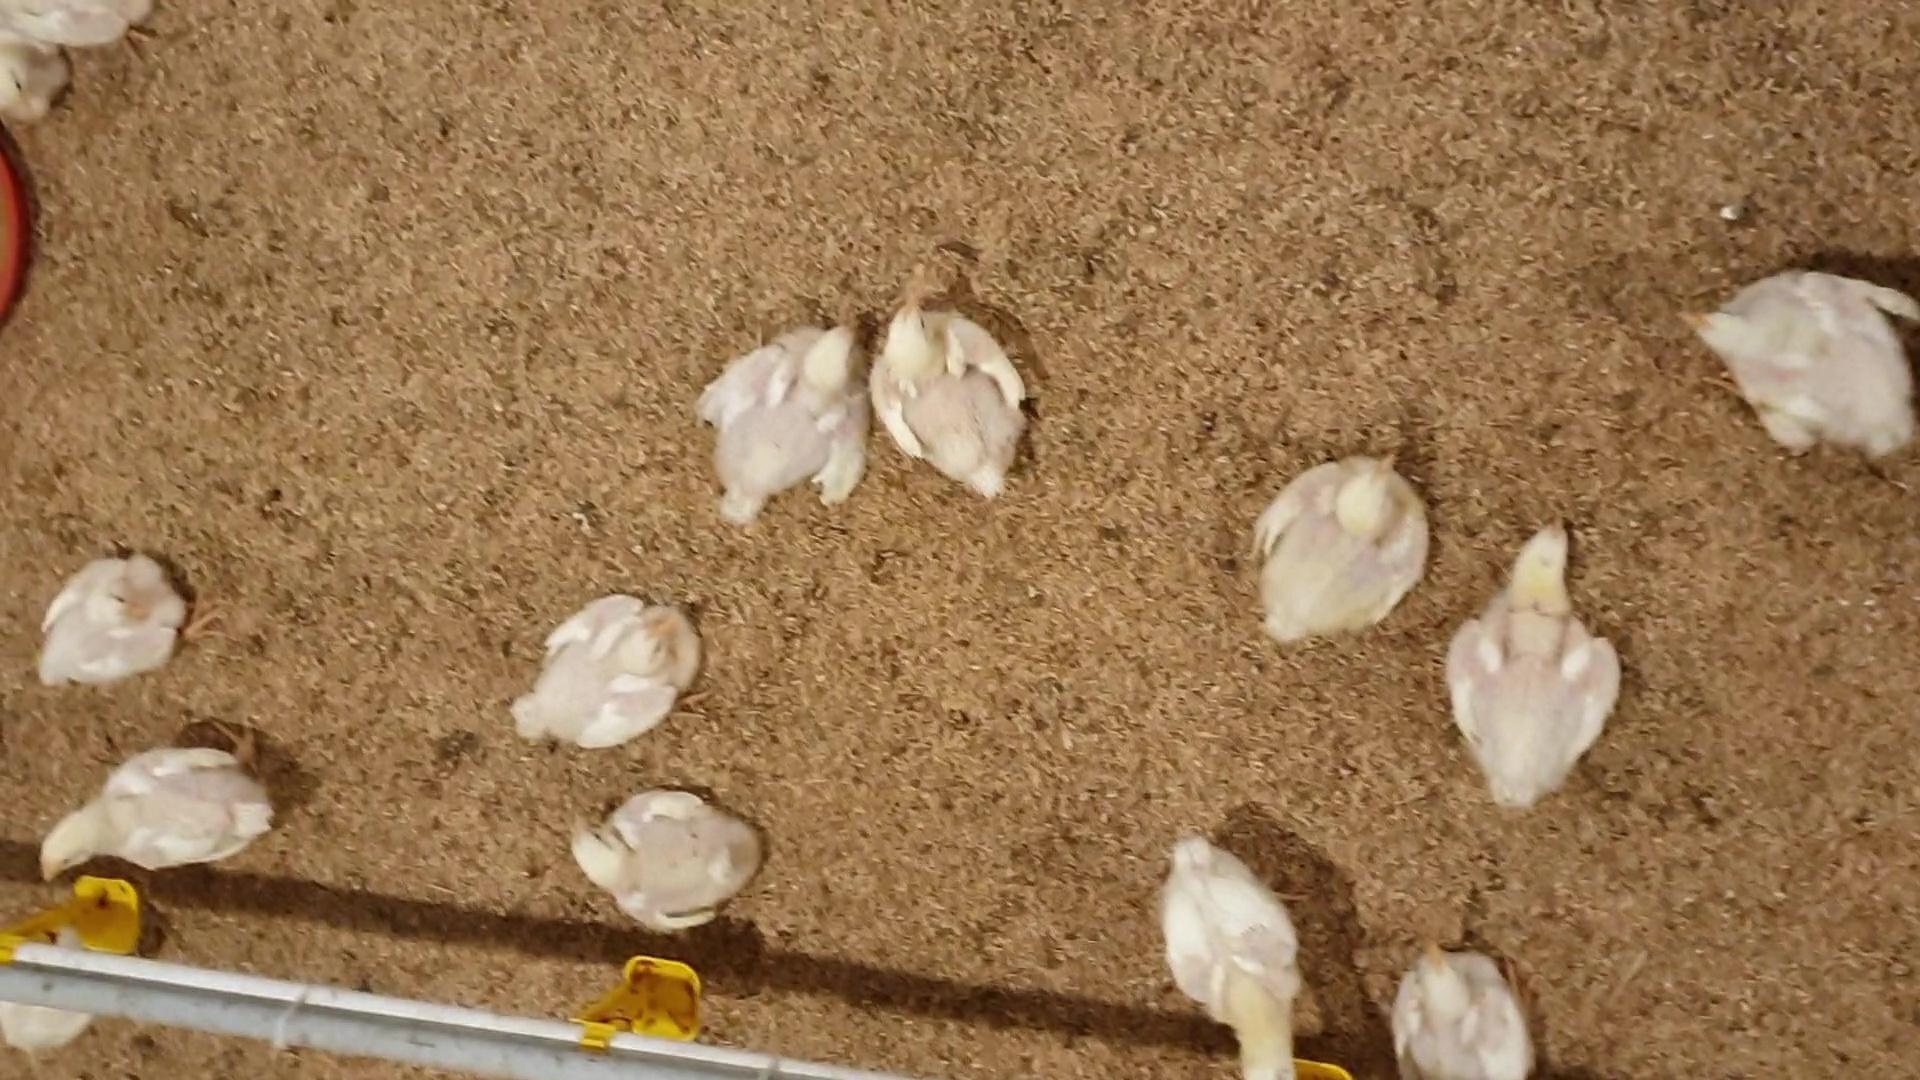Pollos: (1673, 256, 1913, 475), (1445, 517, 1633, 785), (1160, 814, 1319, 1051), (1255, 443, 1439, 647), (880, 277, 1035, 500), (696, 309, 869, 502), (30, 740, 276, 876), (506, 593, 707, 752), (1382, 940, 1557, 1080), (34, 553, 194, 687), (568, 814, 752, 914)
